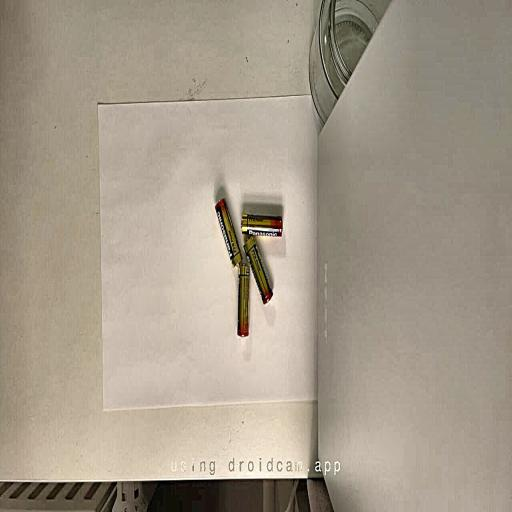PanasonicAA: (244, 236, 273, 304), (215, 199, 242, 267), (241, 213, 282, 237), (237, 263, 250, 337)
